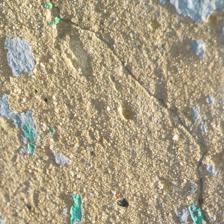Crack: (83, 0, 224, 59), (68, 51, 142, 163)
